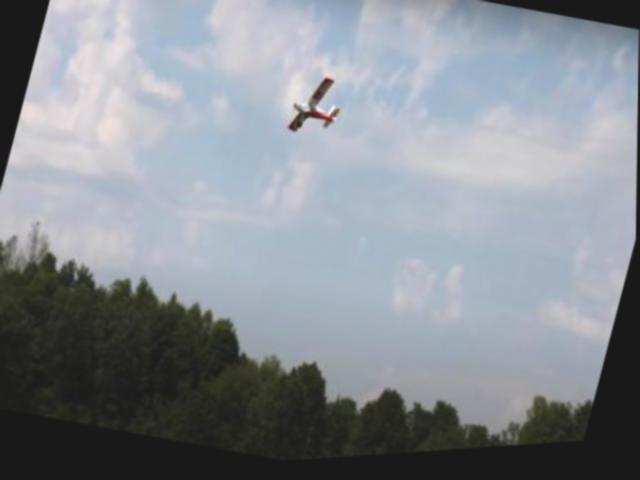uav: (284, 70, 350, 150)
